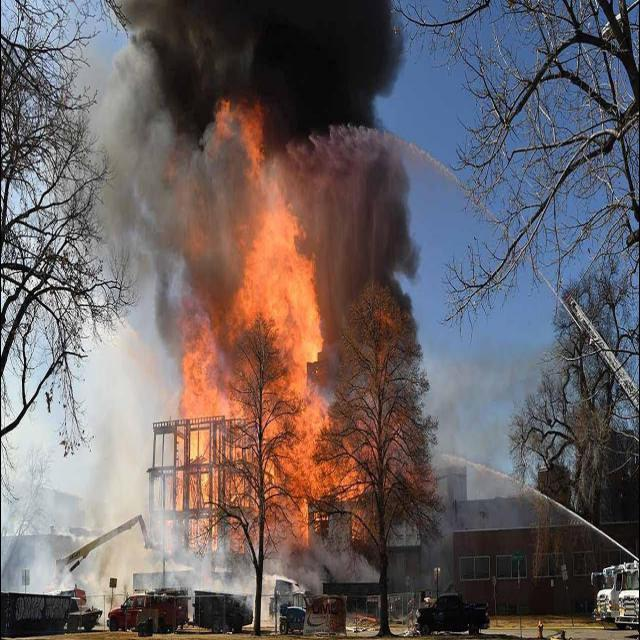Fire: (158, 97, 373, 554)
